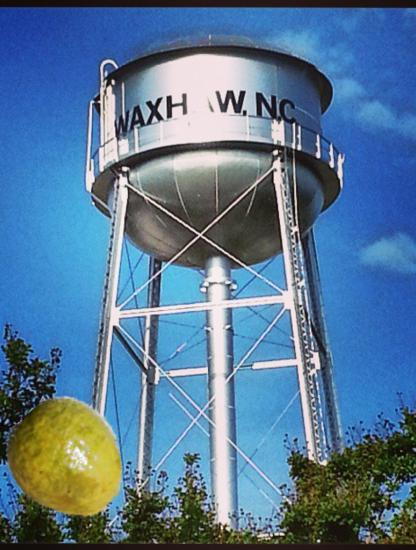Guava: (7, 398, 132, 523)
